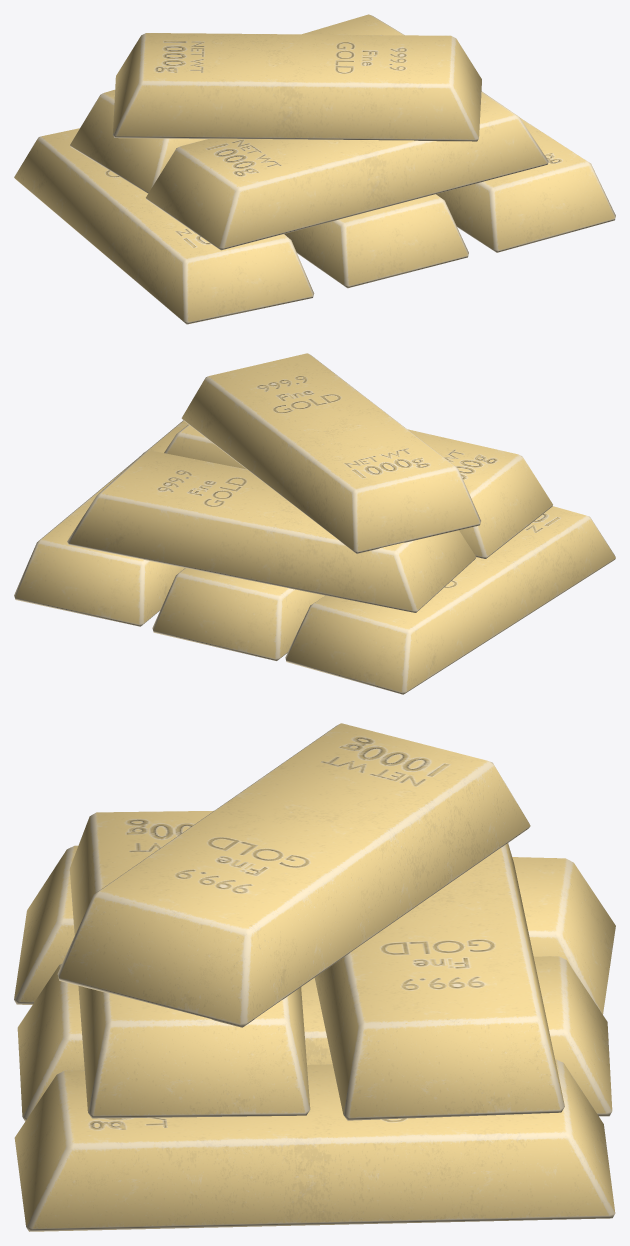
Rendered from Gold-V04.glb.
The picture shows the model from 3 angles, top to bottom: view 1: azimuth 30°, elevation 25°; view 2: azimuth 150°, elevation 25°; view 3: azimuth 270°, elevation 25°; orthographic projection. The views are drawn at different scales.
Visible parts, largest first — view 1: Gold V04 - 3500; view 2: Gold V04 - 3500; view 3: Gold V04 - 3500.
Part boxes in pixels (x1,y1,x2,y2): Gold V04 - 3500: (14, 14, 615, 324); Gold V04 - 3500: (14, 353, 615, 694); Gold V04 - 3500: (14, 723, 615, 1231).
Bounding box in the file's own units: 0.7016 × 0.2397 × 0.5563.
1 material, 1 textured.
